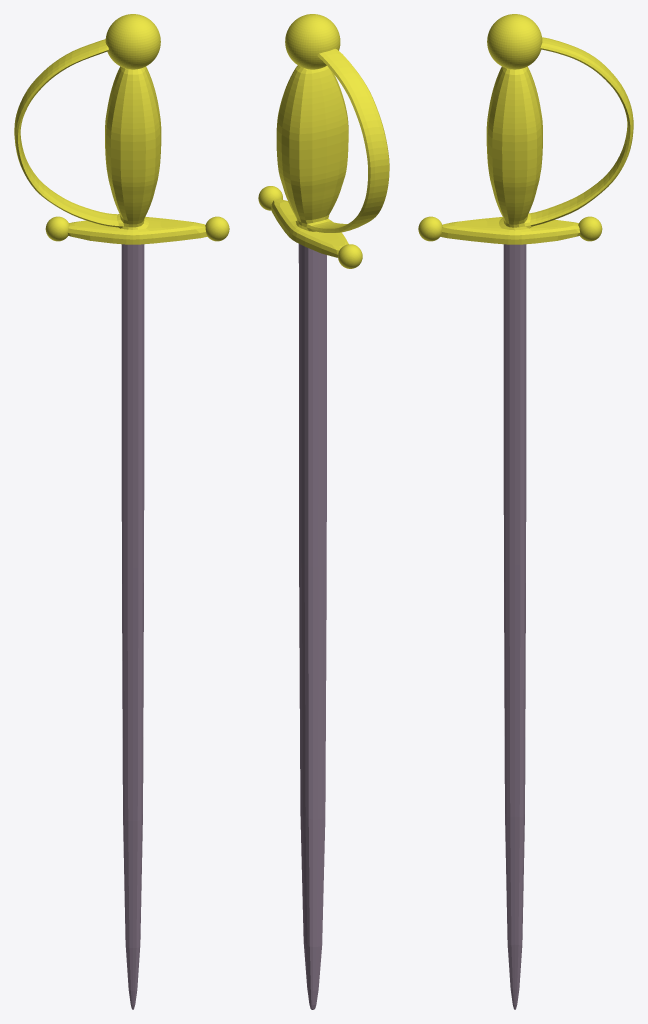
The model's file is estoque.fbx.
3 renders of one model, left to right at view 1: azimuth 90°, elevation 25°; view 2: azimuth 210°, elevation 25°; view 3: azimuth 270°, elevation 25°, orthographic.
Visible parts, largest first — view 1: estoque; view 2: estoque; view 3: estoque.
Boxes of the visible parts, x1,y1,x2,y2 form: estoque: [14, 14, 229, 1009]; estoque: [258, 14, 389, 1009]; estoque: [418, 14, 633, 1009].
Bounding box in the file's own units: 13.88 × 214 × 41.92.
